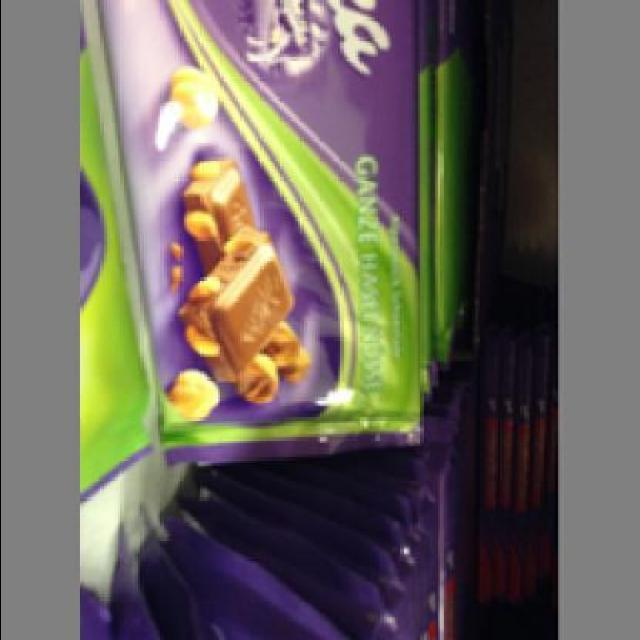Chocolate bar: (102, 1, 420, 452)
